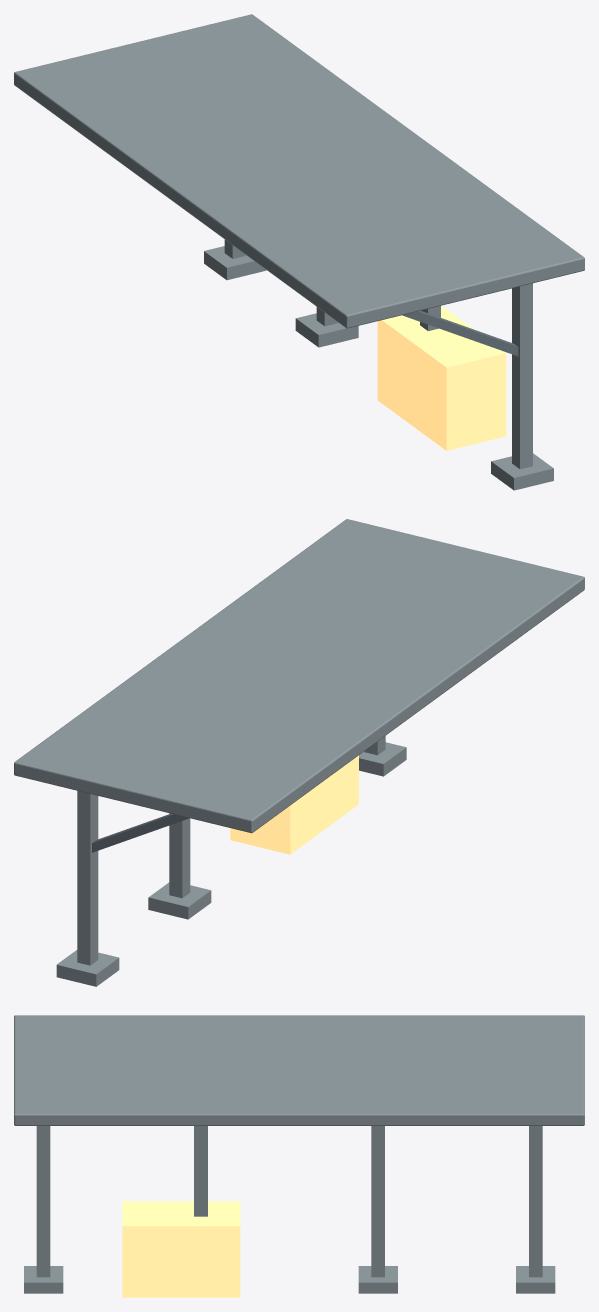
Rendered from vrx_city_canopy_a_LOD0.fbx.
The picture shows the model from 3 angles, top to bottom: view 1: azimuth 30°, elevation 25°; view 2: azimuth 150°, elevation 25°; view 3: azimuth 270°, elevation 25°; orthographic projection. The views are drawn at different scales.
Visible parts, largest first — view 1: vrx_city_canopy_a_LOD0; view 2: vrx_city_canopy_a_LOD0; view 3: vrx_city_canopy_a_LOD0.
Part boxes in pixels (x1,y1,x2,y2): vrx_city_canopy_a_LOD0: [14, 14, 584, 490]; vrx_city_canopy_a_LOD0: [14, 519, 584, 986]; vrx_city_canopy_a_LOD0: [14, 1015, 584, 1297].
Bounding box in the file's own units: 12 × 10.62 × 29.
